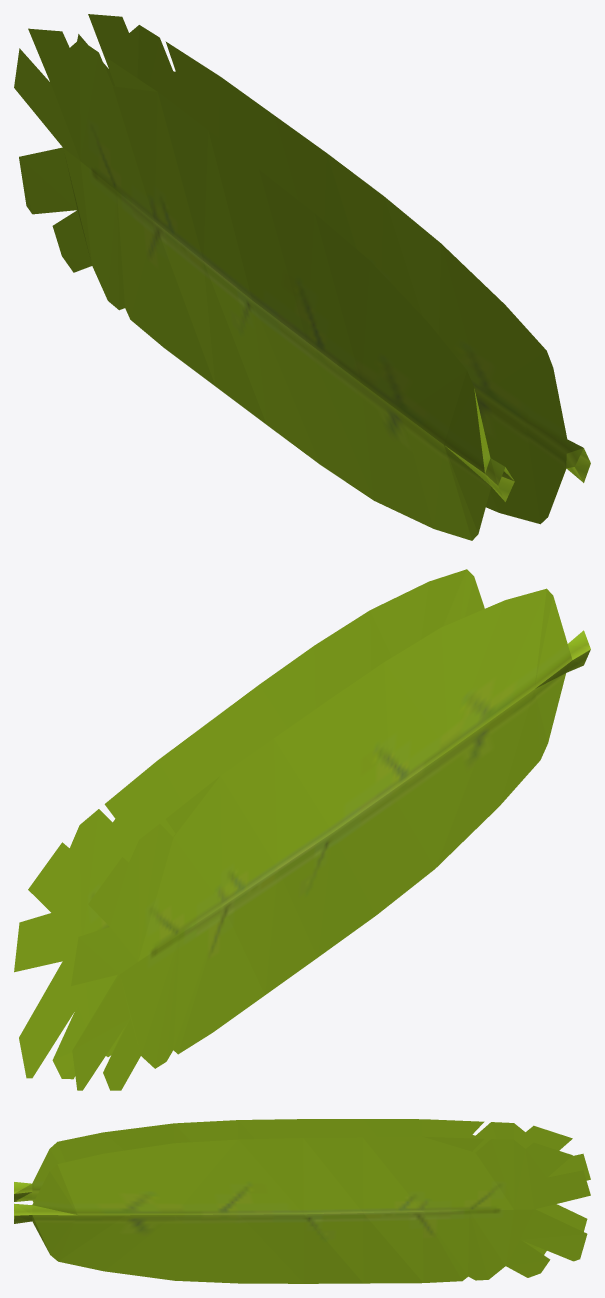
The model's file is BR_Tropius-Shiny01.obj.
3 views of the same model, one above another, from view 1: azimuth 30°, elevation 25°; view 2: azimuth 150°, elevation 25°; view 3: azimuth 270°, elevation 25° (orthographic). The views are drawn at different scales.
Visible parts, largest first — view 1: tropius; view 2: tropius; view 3: tropius.
Part boxes in pixels (x1,y1,x2,y2): tropius: (14, 14, 590, 540); tropius: (14, 569, 590, 1090); tropius: (14, 1119, 590, 1283).
Size of the model in its own units: 2.29 by 6.1 by 21.43.
1 material, 1 textured.
